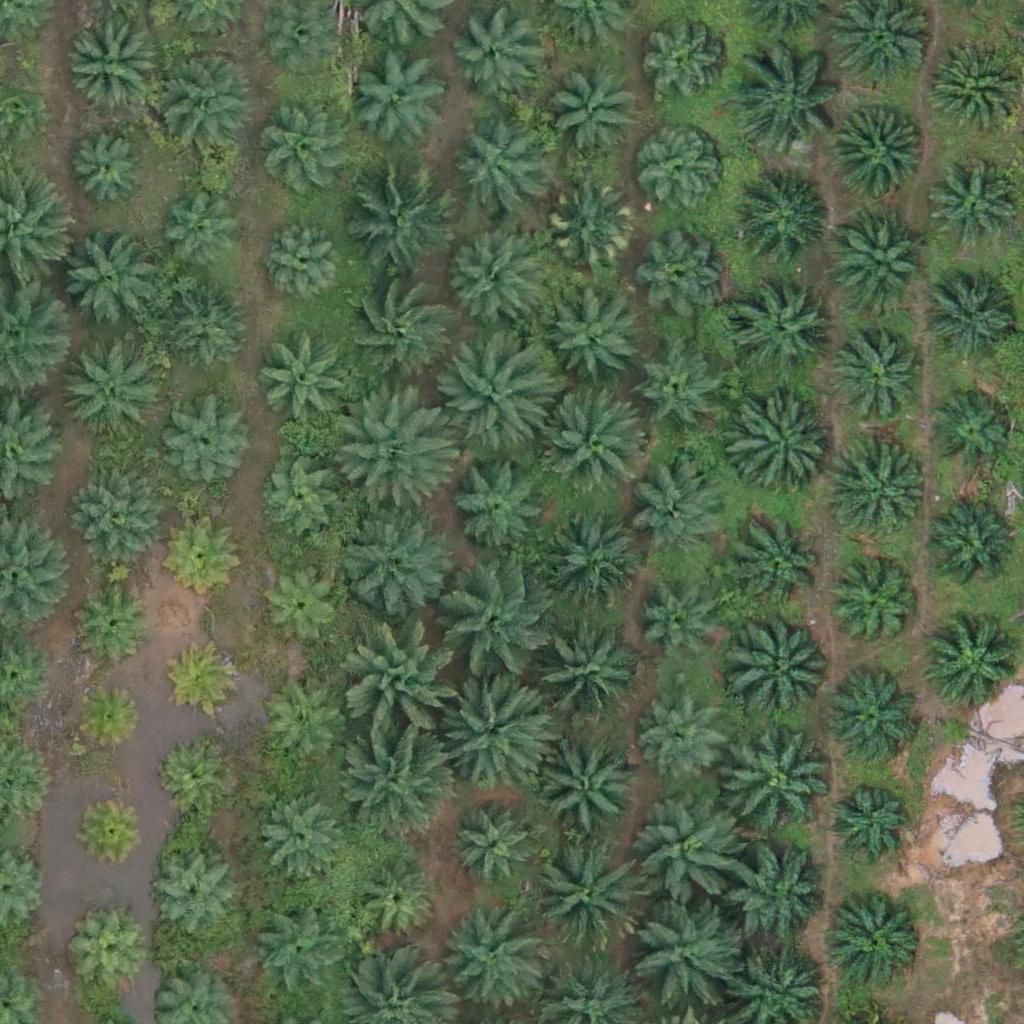Kelapa_Sawit: (626, 892, 739, 1006), (527, 621, 640, 735), (528, 840, 641, 953), (734, 48, 847, 161), (720, 723, 833, 836), (444, 567, 557, 680), (343, 725, 456, 838), (633, 798, 746, 911), (726, 608, 838, 722), (443, 344, 555, 458), (349, 629, 461, 743), (344, 168, 456, 282), (432, 908, 544, 1021), (540, 390, 652, 503), (439, 672, 551, 785), (336, 503, 448, 616), (336, 388, 448, 501), (340, 275, 452, 388), (826, 885, 926, 986), (922, 38, 1022, 139), (920, 499, 1020, 600), (921, 615, 1021, 716), (830, 443, 930, 544), (734, 171, 834, 272), (730, 283, 830, 384), (730, 399, 830, 500), (539, 737, 639, 838), (545, 288, 645, 389), (444, 449, 544, 550), (356, 49, 456, 150), (255, 333, 355, 434), (150, 49, 250, 150), (59, 337, 159, 438), (728, 851, 828, 951), (829, 105, 929, 205), (830, 210, 930, 310), (823, 671, 923, 771), (732, 515, 832, 615), (633, 459, 733, 559), (540, 515, 640, 615), (439, 231, 539, 331), (64, 16, 164, 116), (58, 232, 158, 332), (257, 219, 345, 308), (351, 858, 439, 946), (146, 851, 234, 939), (932, 163, 1020, 251), (832, 565, 920, 653), (824, 778, 912, 866), (449, 9, 537, 97), (450, 125, 538, 213), (451, 803, 539, 891), (265, 109, 353, 197), (159, 182, 247, 270), (254, 559, 342, 647), (259, 682, 347, 770), (251, 908, 338, 997), (928, 385, 1015, 473), (837, 329, 924, 417), (640, 23, 727, 111), (637, 132, 724, 220), (640, 231, 727, 319), (637, 348, 724, 436), (637, 592, 724, 680), (642, 697, 729, 785), (547, 184, 634, 272), (546, 69, 633, 157), (162, 287, 249, 375), (257, 457, 344, 545), (258, 791, 345, 879), (72, 467, 159, 555), (159, 398, 246, 486), (69, 132, 144, 208), (153, 737, 228, 813), (70, 917, 145, 993), (75, 790, 150, 866), (168, 641, 243, 717), (78, 583, 153, 658), (70, 680, 145, 755), (168, 519, 243, 594)
